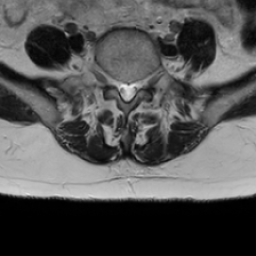CCS_normal: (123, 73, 131, 110)
LFS_normal: (139, 68, 148, 98)
LLS_normal: (131, 71, 139, 107)
RFS_normal: (107, 66, 116, 95)
RLS_normal: (116, 70, 123, 106)
